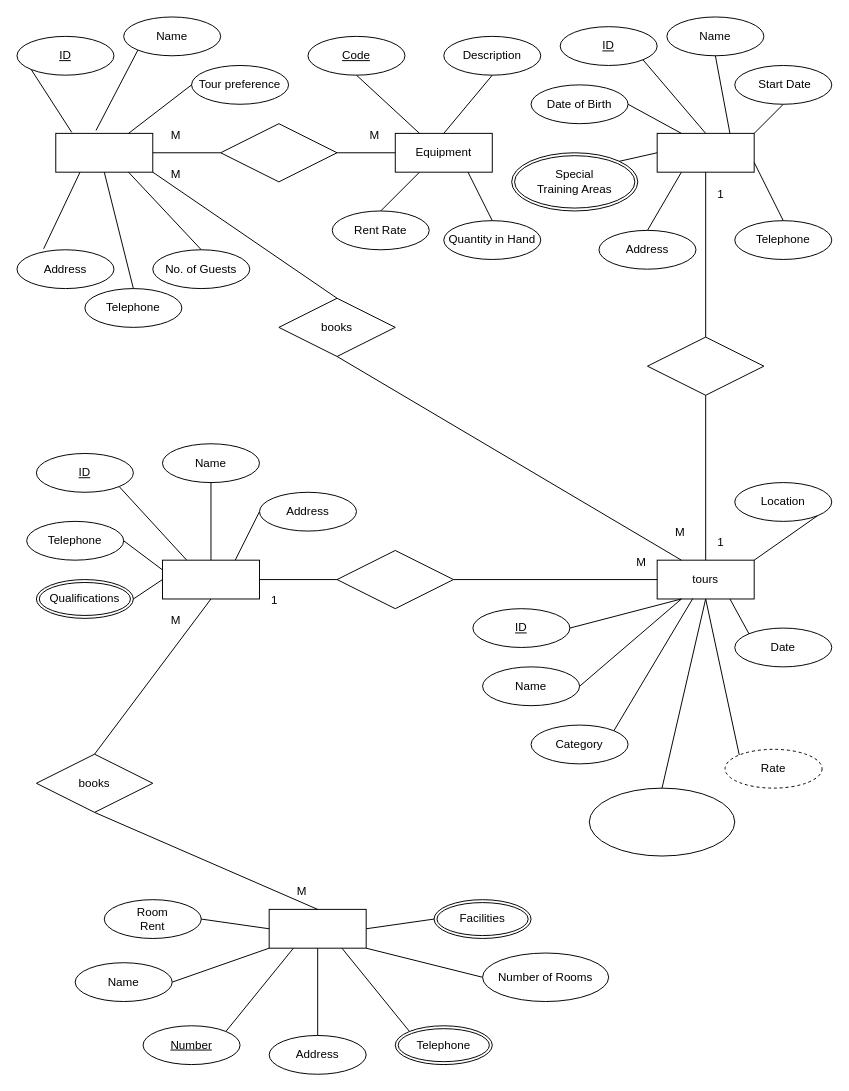
This 849x1091 diagram has some shape labels left out. Each missing label, with the box of its shape:
assign: (647, 336, 764, 395)
book: (220, 123, 337, 182)
coordinate: (336, 550, 453, 609)
coordinator: (162, 559, 259, 599)
customer: (55, 132, 153, 172)
guide: (656, 132, 754, 172)
hotels: (268, 908, 366, 948)
Maximum No of Tour Members: (588, 787, 735, 856)
